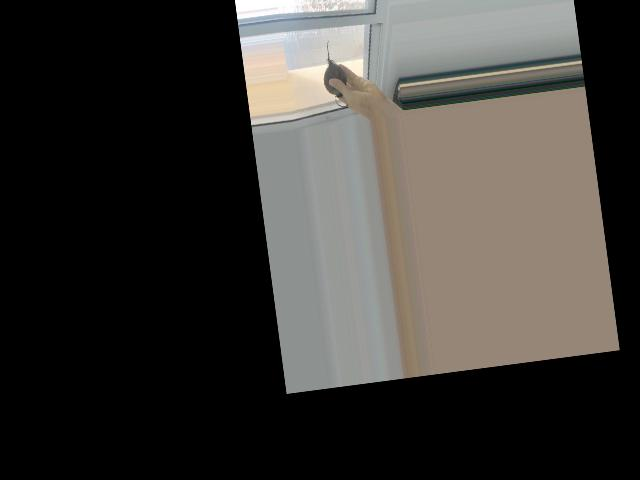beet: (318, 37, 356, 108)
